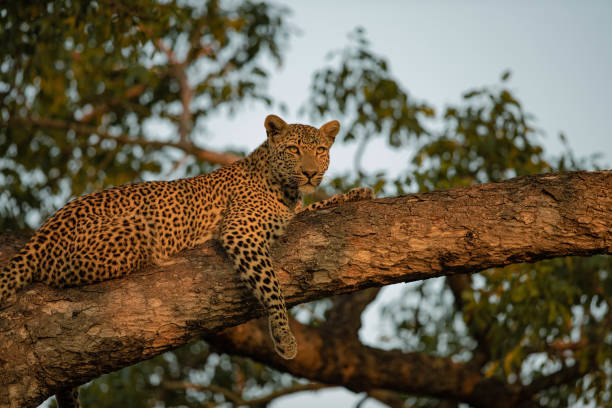cheetah: (256, 109, 347, 199)
